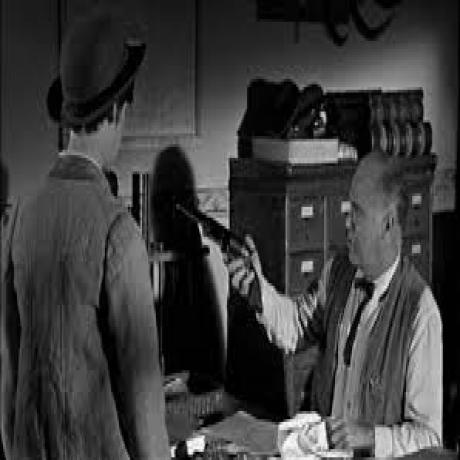Guns: (173, 191, 269, 316)
